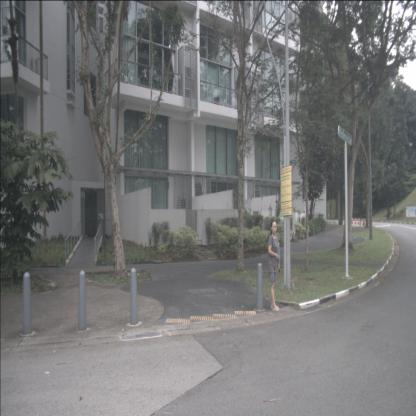human-pedestrian-adult: (268, 220, 280, 312)
movable_object-trafficcone: (358, 215, 362, 226), (354, 215, 358, 225), (351, 215, 355, 224), (362, 217, 365, 226)
